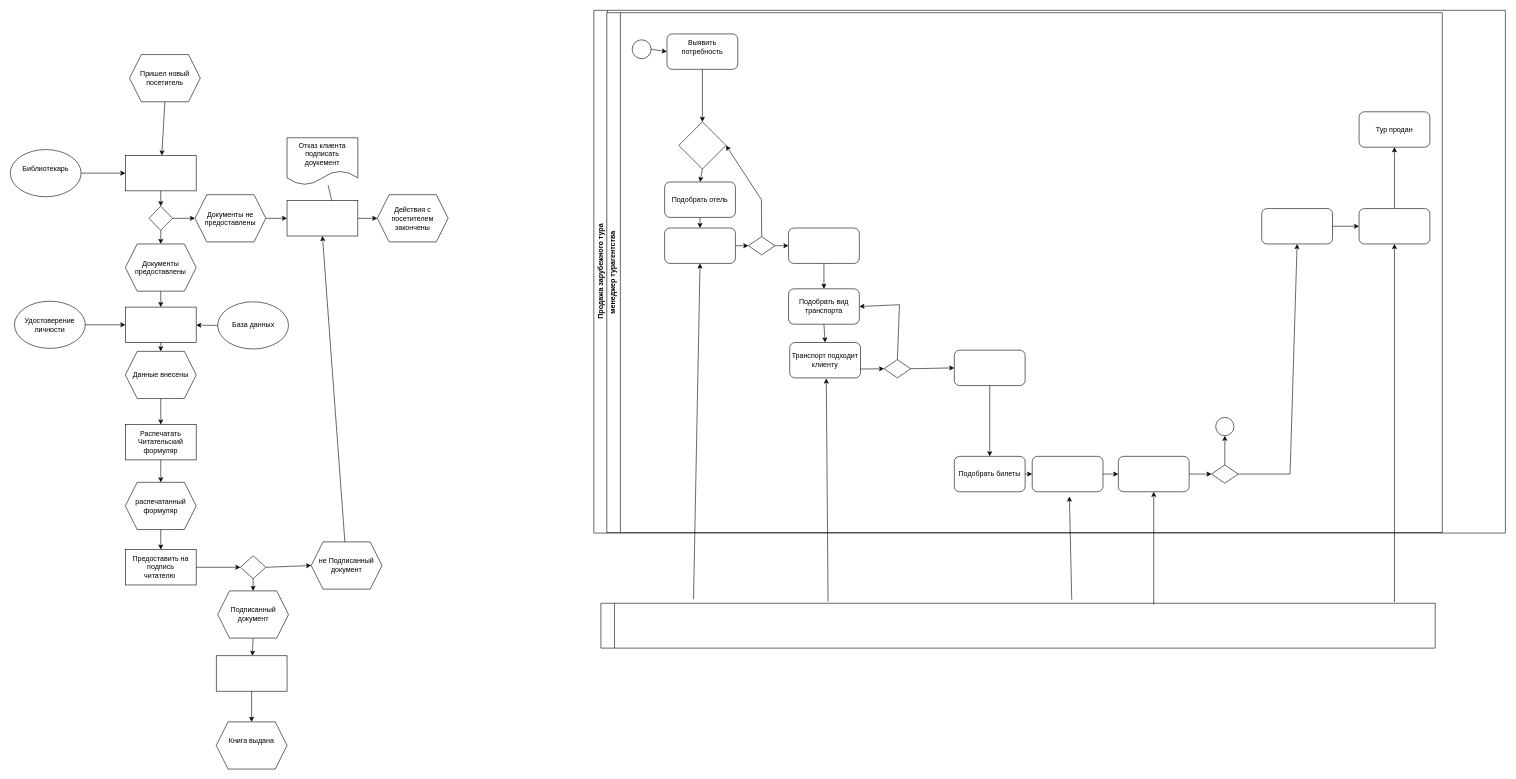
Image size: 1516x779. Some labels were removed from this diagram. The shapes that lost their labels are listed below. From the top down, each one's centre as x and y in pixels, then its label:
At pixel 160 173: "Попросить удостоверение личности".
At pixel 322 218: "Попрощаться с клиентом".
At pixel 1297 226: "Оплата принята".
At pixel 1394 226: "Подготовить документы".
At pixel 699 245: "Отель подходит клиенту".
At pixel 823 245: "Отель забронирован".
At pixel 160 324: "Внести в БД информацию".
At pixel 989 368: "Вид транспорта выбран".
At pixel 1067 474: "Билеты забронированы".
At pixel 1153 474: "Принять оплату".
At pixel 1017 625: "Клиент".
At pixel 251 673: "Выдать книгу".
